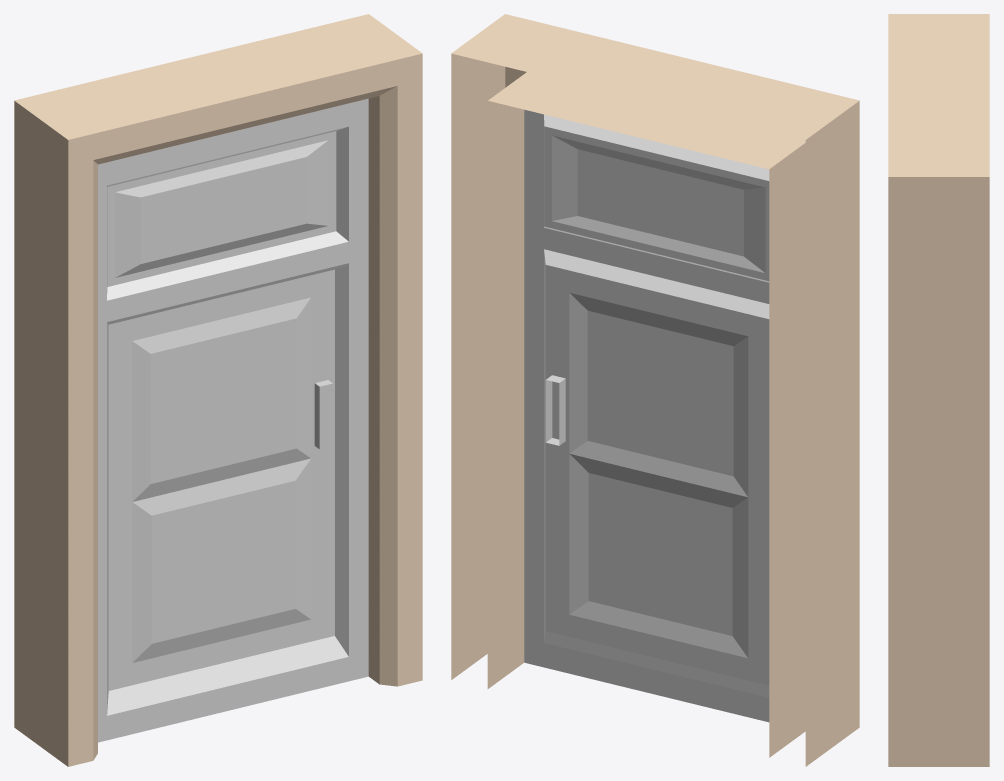
Rendered from Door01.fbx.
3 views of the same model, side by side, from view 1: azimuth 30°, elevation 25°; view 2: azimuth 150°, elevation 25°; view 3: azimuth 270°, elevation 25° (orthographic). The views are drawn at different scales.
Visible parts, largest first — view 1: Door01; view 2: Door01; view 3: Door01.
Part boxes in pixels (x1=…): Door01: x1=14, y1=14, x2=422, y2=766; Door01: x1=451, y1=14, x2=859, y2=766; Door01: x1=888, y1=14, x2=989, y2=766.
Bounding box in the file's own units: 154 × 260 × 40.63.
